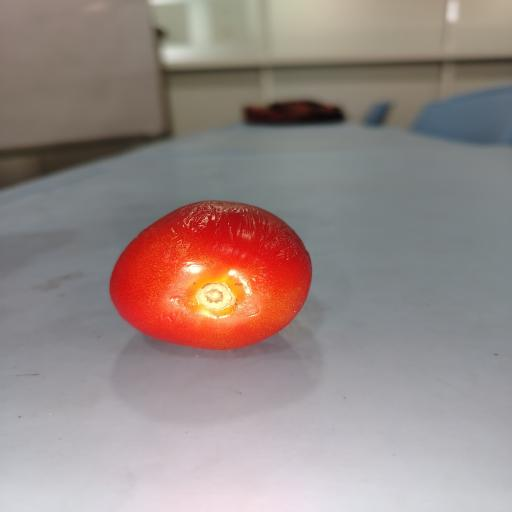spoiled: (110, 201, 311, 350)
